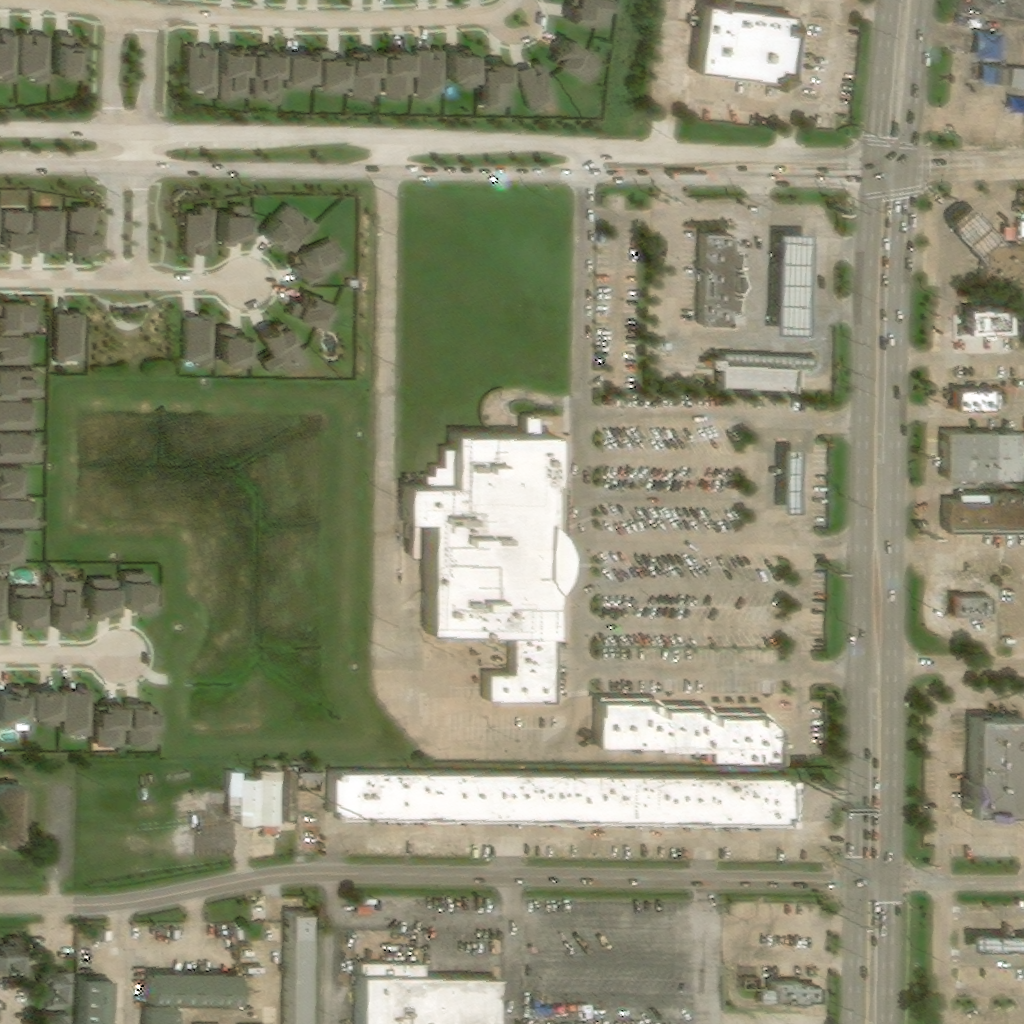no_damage: (396, 415, 567, 710), (330, 765, 797, 831), (595, 695, 786, 765), (674, 0, 794, 88), (357, 964, 509, 1023), (951, 203, 1022, 293), (965, 708, 1022, 815), (768, 224, 813, 337), (703, 352, 816, 395), (942, 429, 1022, 486), (149, 968, 245, 1014), (698, 230, 739, 330), (283, 909, 315, 1023), (944, 493, 1022, 537), (256, 320, 309, 376), (552, 32, 602, 85), (289, 237, 343, 285), (259, 203, 310, 252), (0, 782, 34, 855), (287, 288, 337, 336), (516, 61, 559, 115), (46, 565, 84, 626), (182, 309, 218, 372), (126, 693, 163, 752), (228, 771, 262, 831), (251, 44, 283, 107), (217, 44, 250, 105), (93, 694, 128, 750), (479, 55, 510, 117), (22, 32, 55, 90), (61, 683, 92, 744), (54, 308, 86, 367), (186, 44, 218, 100), (351, 47, 384, 101), (964, 305, 1012, 342), (79, 973, 114, 1023), (384, 46, 415, 101), (316, 50, 351, 98), (415, 47, 446, 101), (85, 577, 118, 627), (763, 982, 821, 1010), (184, 206, 214, 260), (119, 570, 152, 619), (66, 205, 98, 255), (282, 47, 315, 95), (29, 683, 61, 732), (218, 203, 250, 250), (11, 586, 42, 634), (260, 768, 282, 835), (33, 208, 65, 254), (0, 367, 43, 401), (0, 683, 29, 732), (0, 498, 41, 532), (219, 325, 249, 371), (954, 386, 999, 416), (41, 968, 73, 1010), (449, 44, 477, 91), (781, 443, 799, 516), (2, 211, 33, 253), (56, 34, 82, 82), (952, 595, 995, 624), (0, 296, 33, 333), (567, 0, 611, 27), (0, 433, 40, 462), (0, 33, 19, 87), (0, 335, 32, 365), (975, 35, 1006, 65), (0, 938, 25, 975), (0, 402, 34, 429), (972, 932, 1022, 950), (0, 463, 28, 494), (284, 769, 299, 822), (0, 529, 21, 564), (981, 66, 1008, 90), (145, 1007, 182, 1023), (300, 764, 327, 784), (814, 771, 835, 793), (0, 579, 9, 627), (41, 1012, 69, 1023), (1010, 69, 1022, 91), (1008, 98, 1022, 114), (360, 911, 376, 923), (1012, 29, 1022, 48), (85, 962, 99, 973), (993, 0, 1005, 11), (347, 915, 360, 925), (348, 279, 359, 290)
